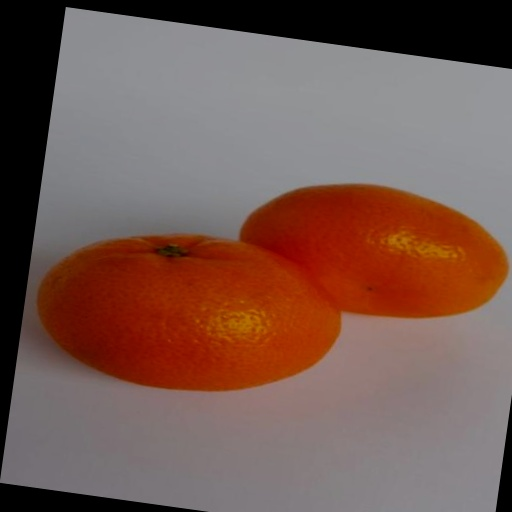fruit: (38, 235, 339, 390), (241, 184, 508, 317)
